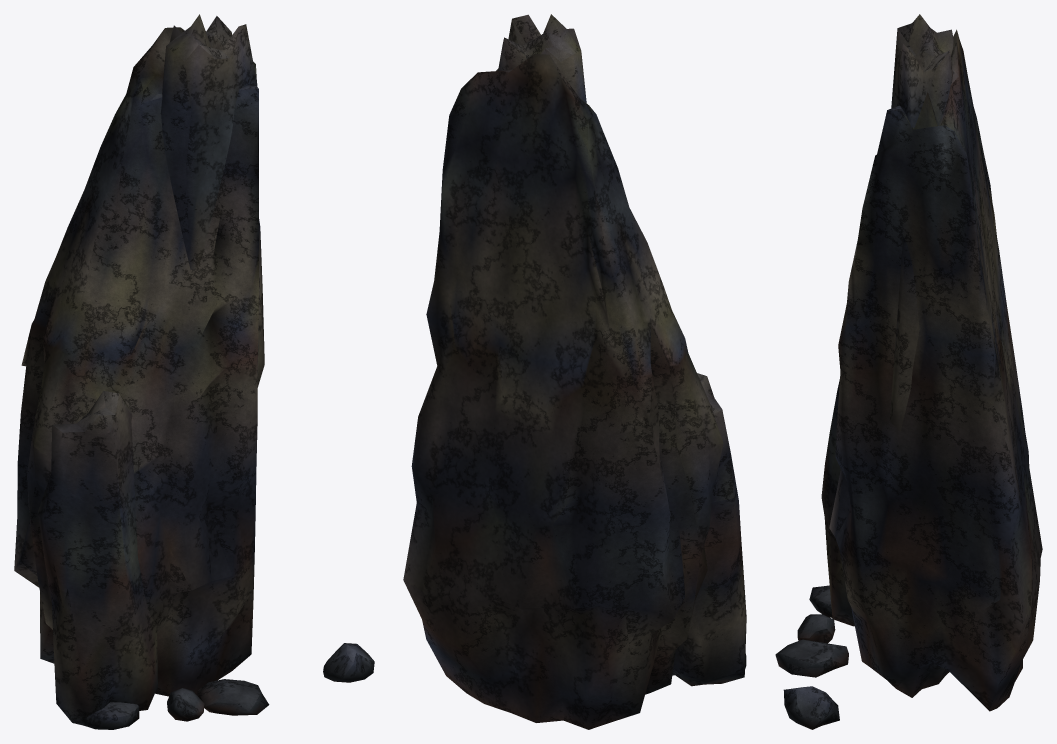
Rendered from cliff_c.glb.
3 renders of one model, left to right at view 1: azimuth 30°, elevation 25°; view 2: azimuth 150°, elevation 25°; view 3: azimuth 270°, elevation 25°, orthographic.
Visible parts, largest first — view 1: cliff_c; view 2: cliff_c; view 3: cliff_c.
Part boxes in pixels (x1,y1,x2,y2): cliff_c: (14,14,374,729); cliff_c: (403,14,746,729); cliff_c: (775,14,1042,729).
Bounding box in the file's own units: 7.46 × 16.13 × 5.81.
Materials: 1 (1 with a texture image).
